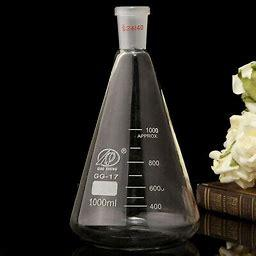Titrarion: (51, 16, 202, 237)
